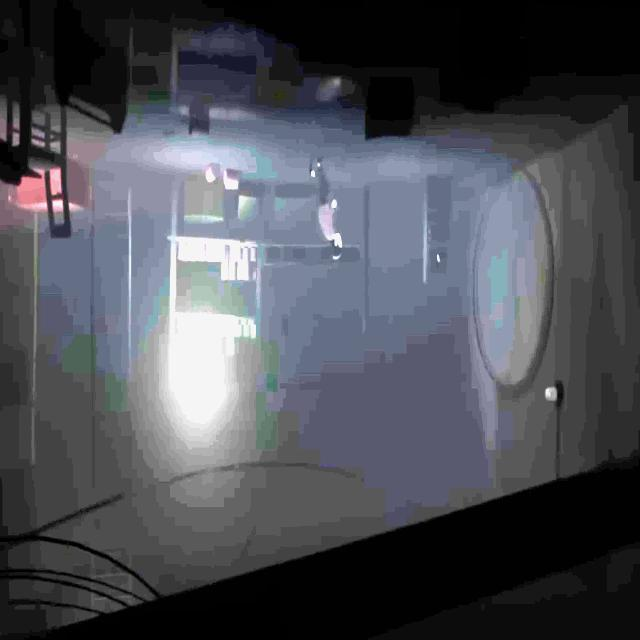boy: (310, 160, 342, 258)
